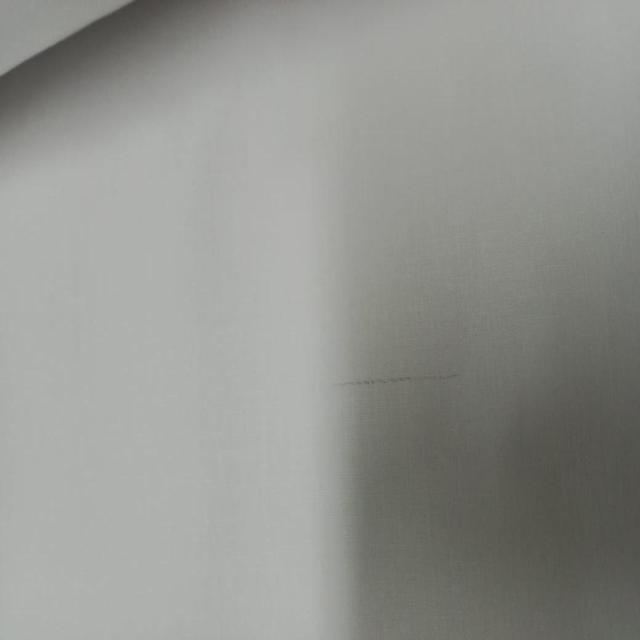contamination: (326, 369, 462, 396)
